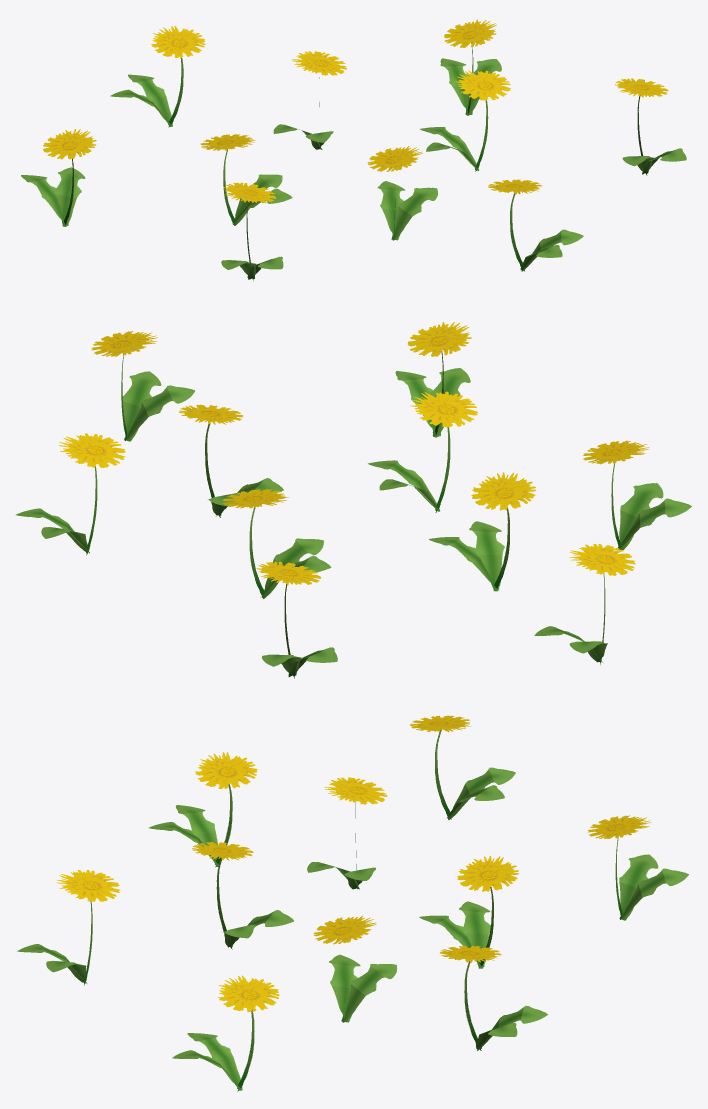
The model's file is dandelion-flowers-64.glb.
3 views of the same model, one above another, from view 1: azimuth 30°, elevation 25°; view 2: azimuth 150°, elevation 25°; view 3: azimuth 270°, elevation 25° (orthographic). The views are drawn at different scales.
Parts seen in each view (by area): view 1: dandelion_flowers_64; view 2: dandelion_flowers_64; view 3: dandelion_flowers_64.
Part boxes in pixels (<box>): dandelion_flowers_64: <box>21,19,686,281</box>; dandelion_flowers_64: <box>16,322,691,678</box>; dandelion_flowers_64: <box>17,715,688,1091</box>.
Size of the model in its own units: 15.3 by 2.48 by 14.62.
1 material, 1 textured.
